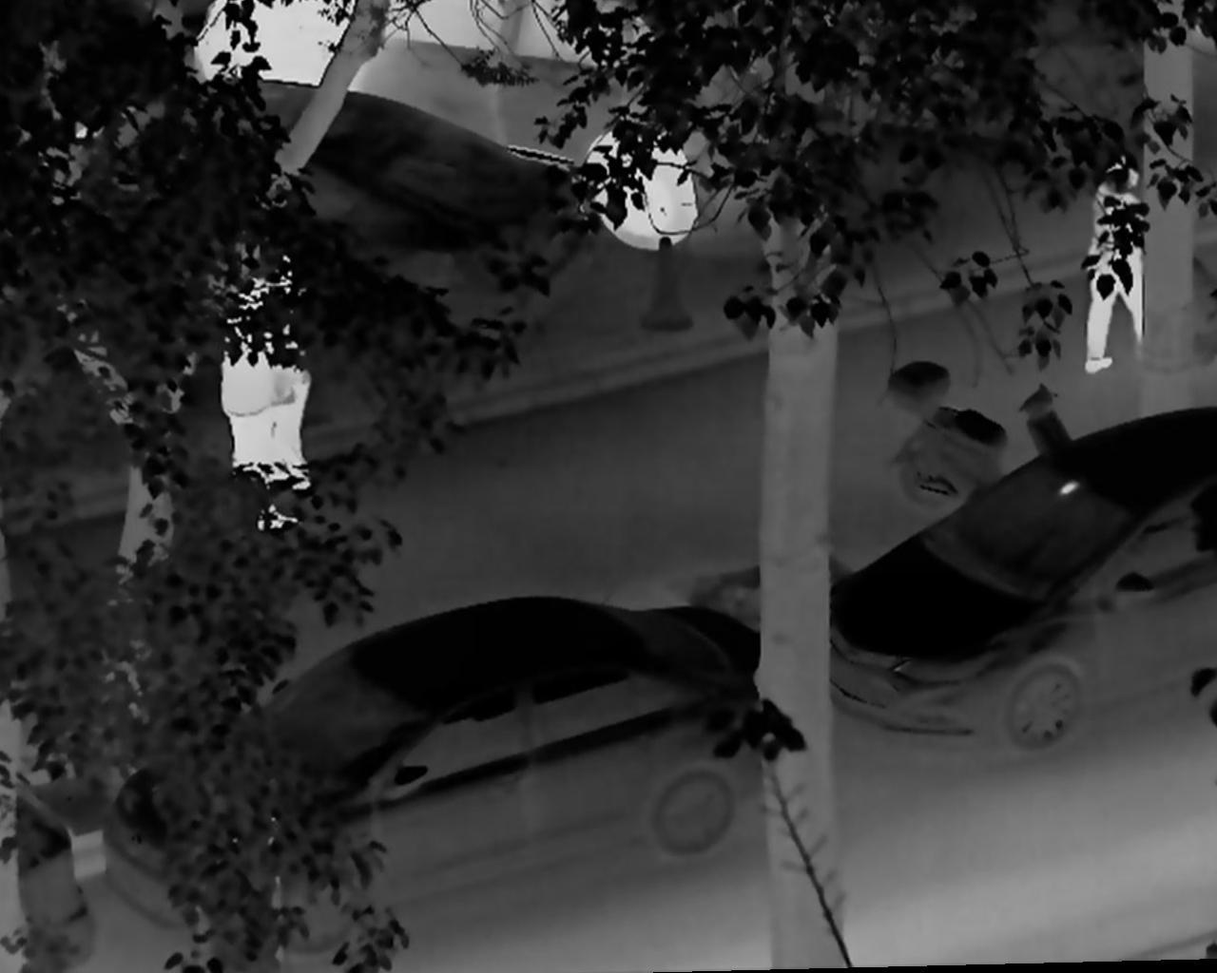person: (217, 277, 295, 535), (246, 245, 318, 494), (1082, 141, 1149, 378)
